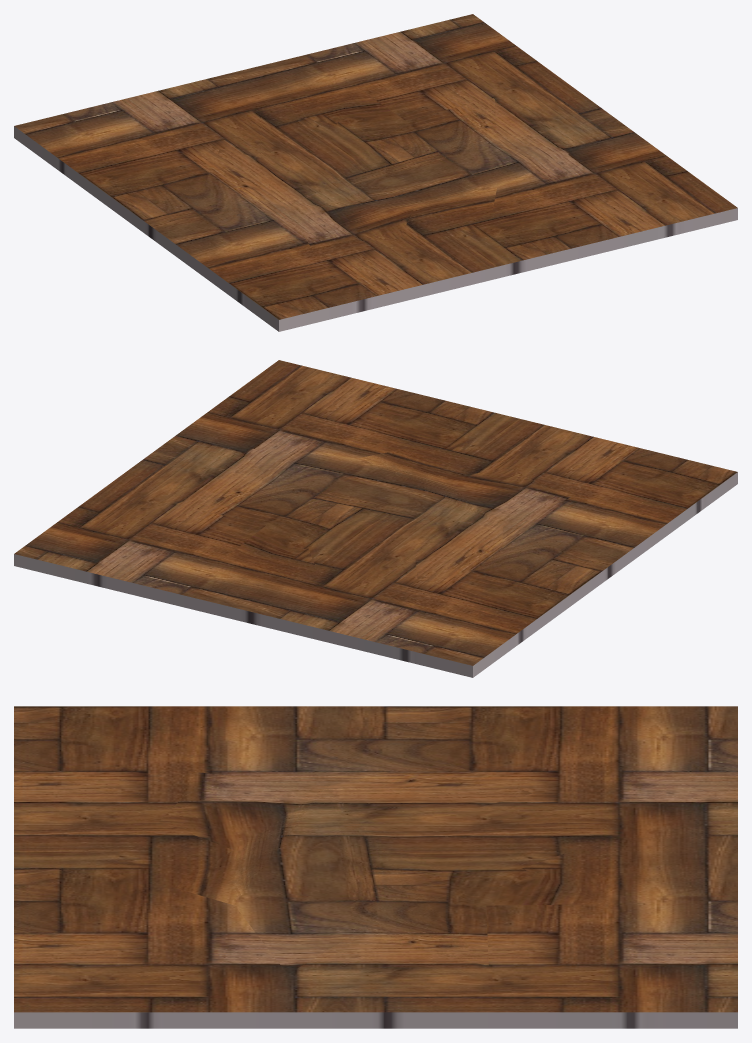
The model's file is Floor with hole.fbx.
3 renders of one model, top to bottom at view 1: azimuth 30°, elevation 25°; view 2: azimuth 150°, elevation 25°; view 3: azimuth 270°, elevation 25°, orthographic. The views are drawn at different scales.
Visible parts, largest first — view 1: Floor with hole, Hole filling; view 2: Floor with hole, Hole filling; view 3: Floor with hole, Hole filling.
Boxes of the visible parts, x1=… form: Floor with hole: x1=14, y1=14, x2=737, y2=331; Hole filling: x1=204, y1=88, x2=580, y2=251; Floor with hole: x1=14, y1=360, x2=737, y2=677; Hole filling: x1=175, y1=447, x2=579, y2=581; Floor with hole: x1=14, y1=706, x2=737, y2=1028; Hole filling: x1=159, y1=760, x2=609, y2=973.
Bounding box in the file's own units: 600 × 15.39 × 600.
Materials: 2 (2 with a texture image).
